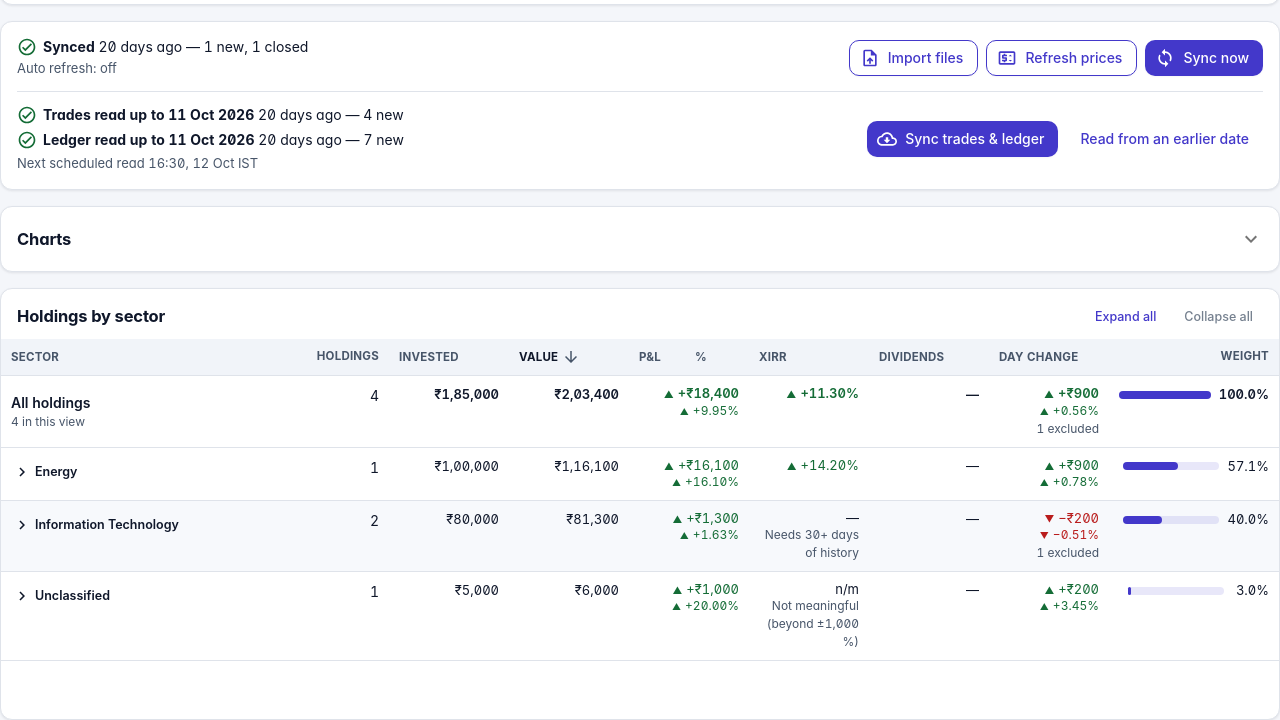
Test: Group by: opening a group › opens a group to its holdings with the holdings columns, asking the list for that group only
(page scrolled)
Click the button "Energy" at (45, 472), box [9,457,82,487]
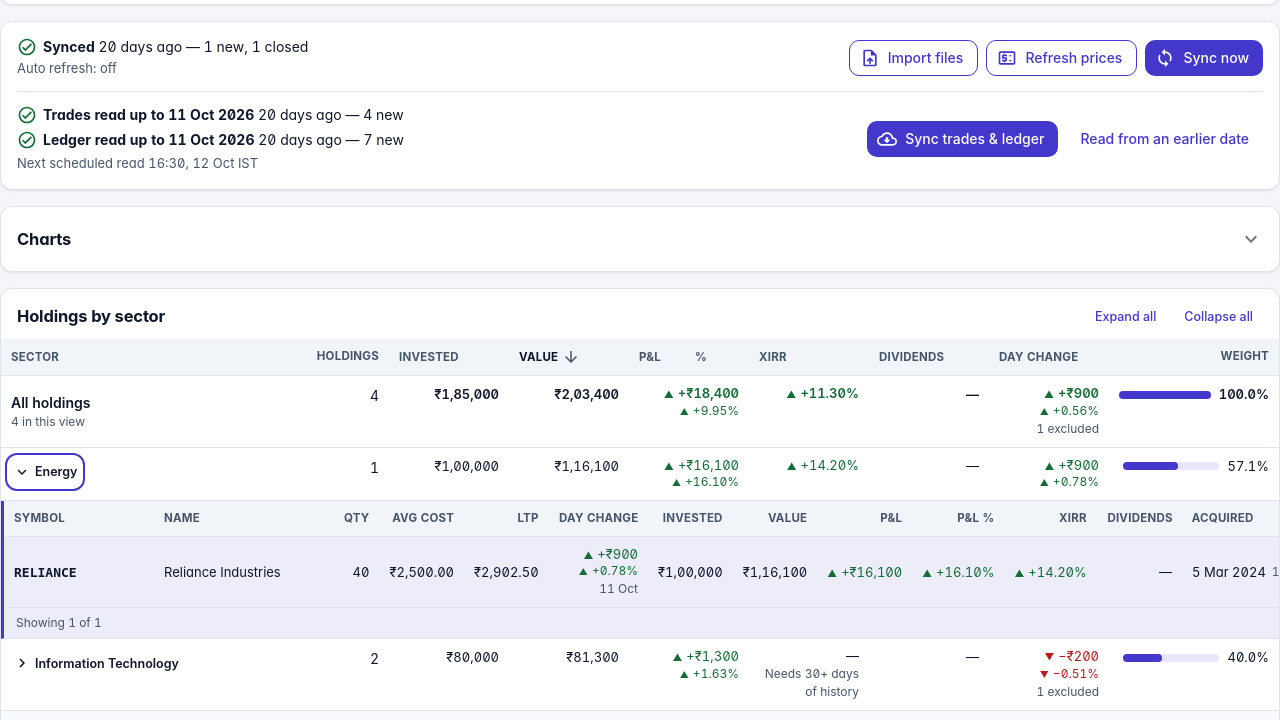
Now the button "Energy" is expanded, box [9,457,82,487]
Now the cell "RELIANCE" is shown, box [4,537,154,608]
Now the column heading "Avg cost" is shown, box [380,501,464,537]
